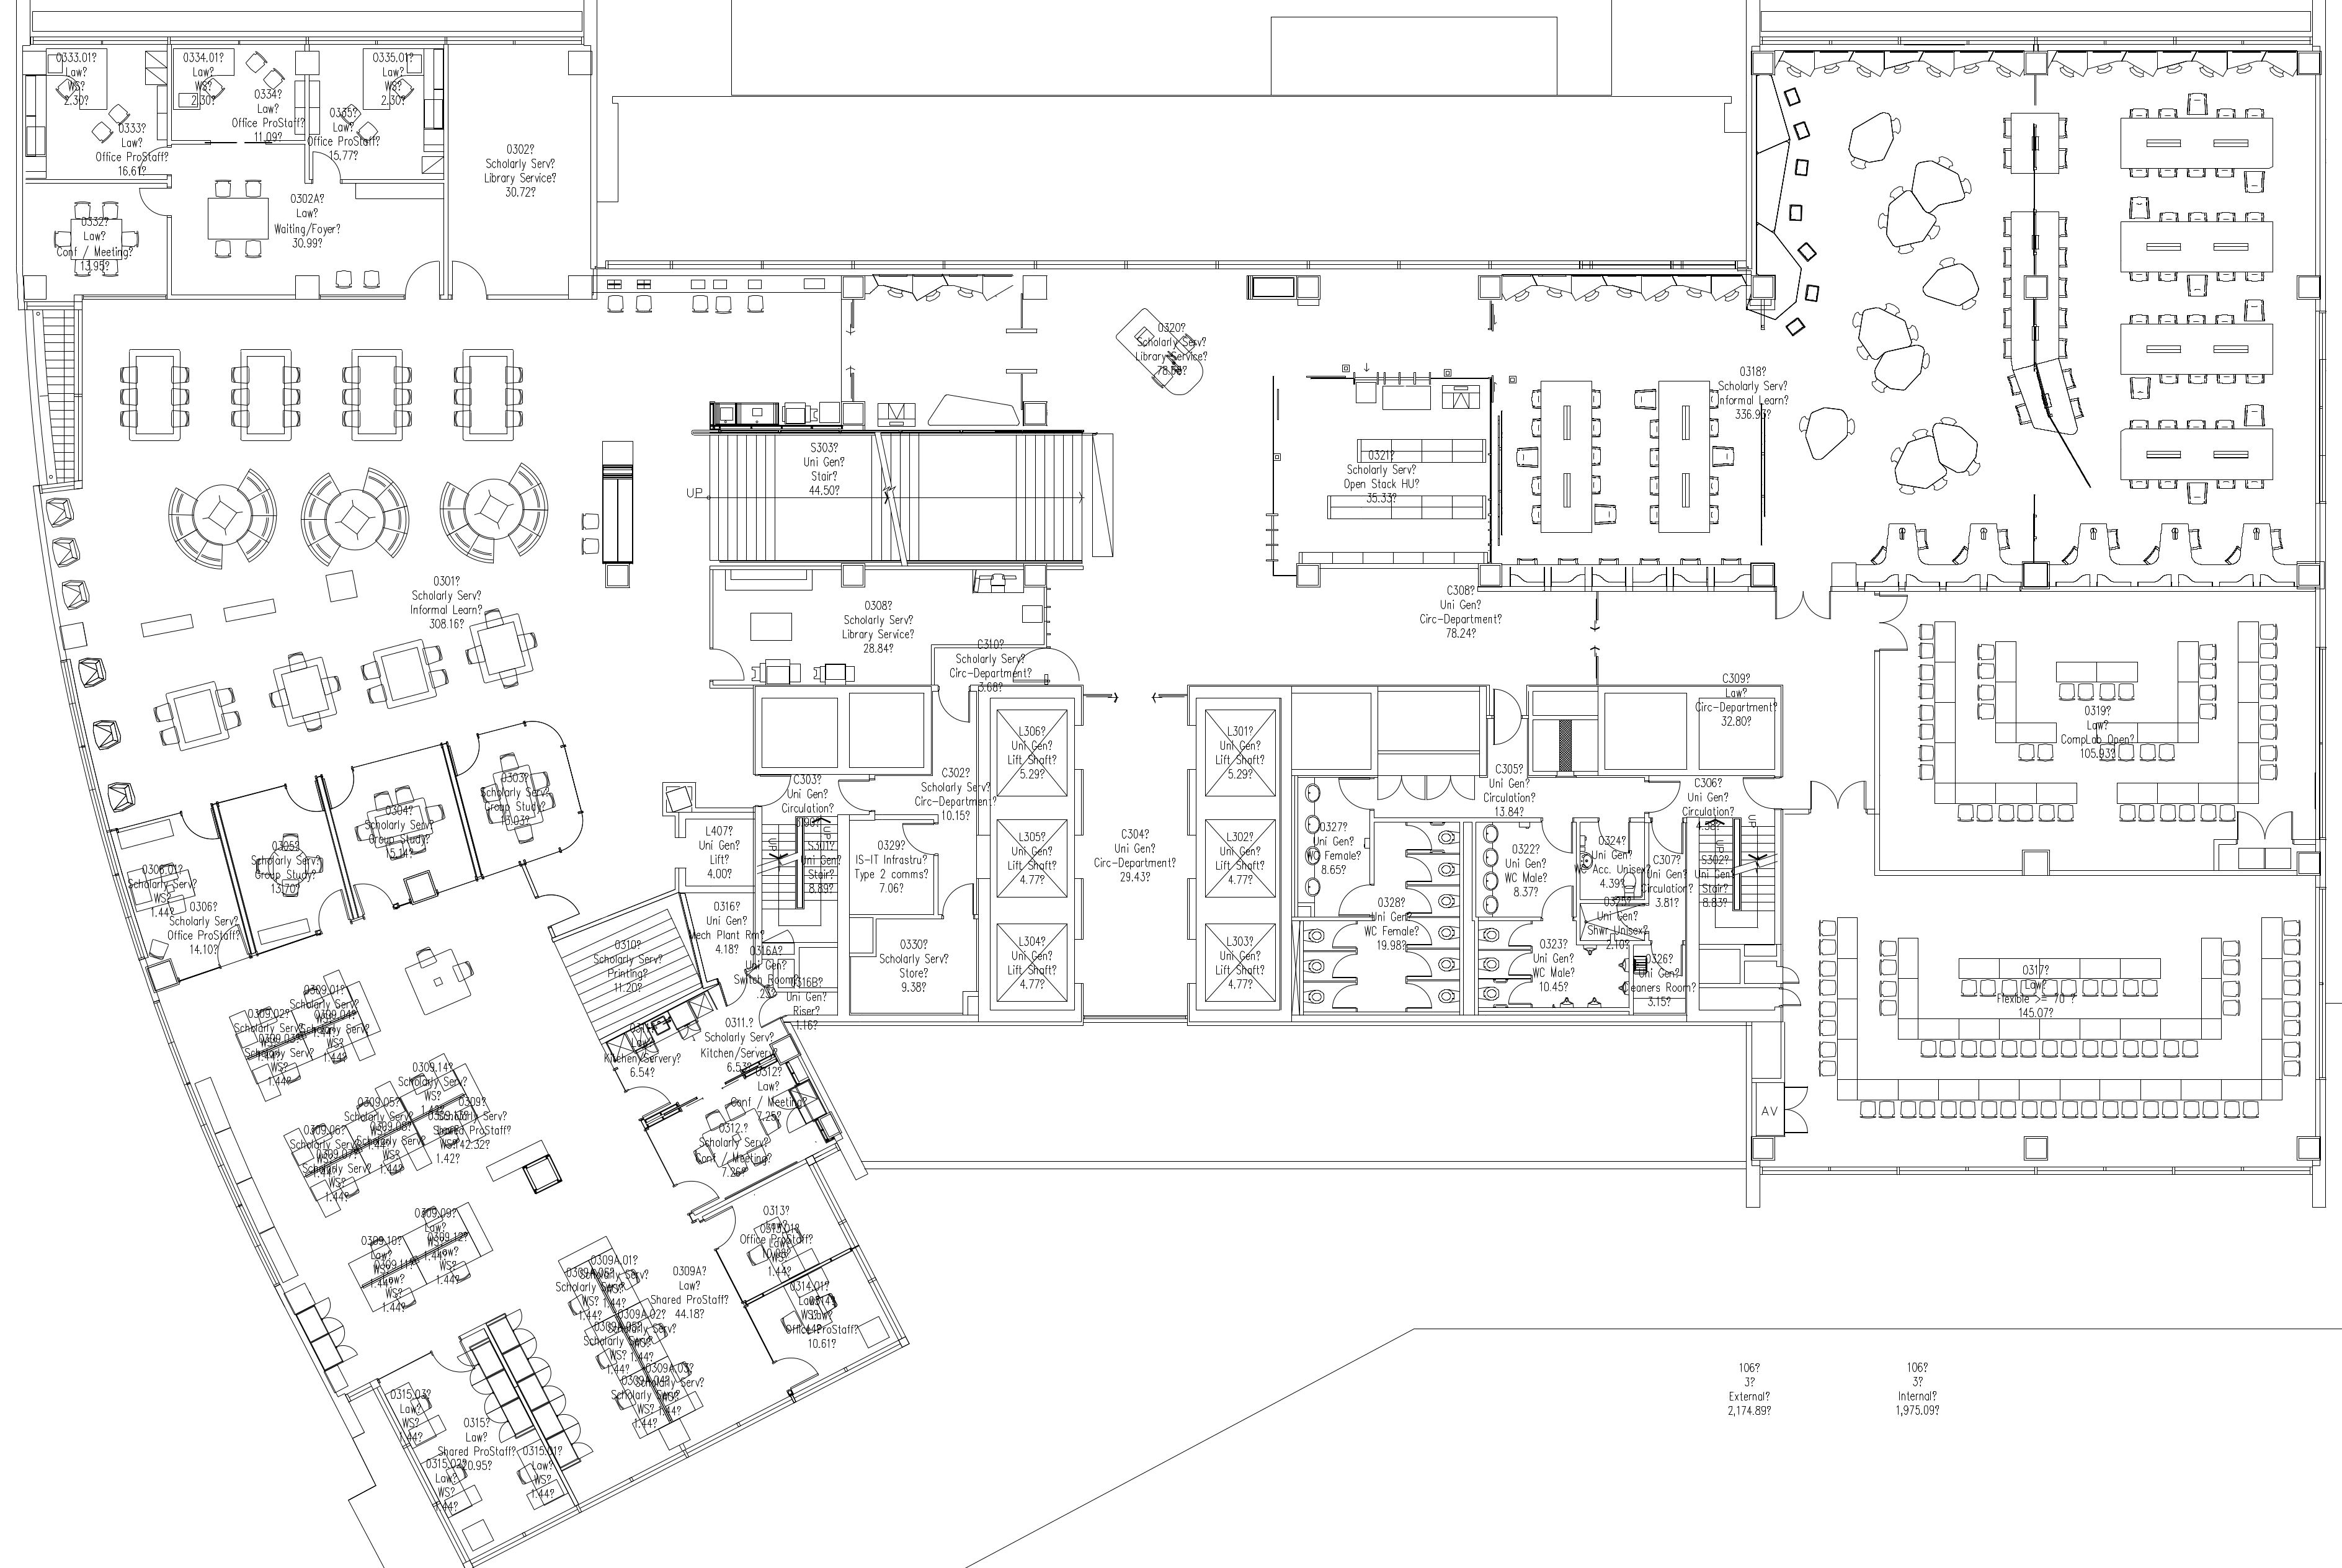door: (1878, 591, 1913, 654), (1774, 591, 1831, 628), (624, 1078, 675, 1118), (1809, 775, 1866, 810), (2237, 807, 2295, 842), (1784, 1081, 1821, 1136), (1492, 681, 1520, 751), (1373, 775, 1425, 808), (540, 884, 582, 924), (311, 886, 350, 929), (701, 1206, 740, 1249), (320, 767, 357, 810), (1425, 775, 1476, 807), (675, 1174, 721, 1209), (773, 1351, 819, 1386), (450, 255, 490, 294), (353, 873, 394, 912), (446, 737, 483, 779), (402, 255, 441, 294), (712, 644, 747, 682), (180, 812, 220, 845), (283, 780, 324, 814), (1539, 884, 1574, 920), (1649, 779, 1684, 814), (1541, 819, 1576, 854), (1336, 777, 1371, 812), (1333, 880, 1368, 915), (897, 821, 932, 854), (1649, 819, 1683, 854), (1739, 777, 1772, 812), (834, 779, 868, 812), (937, 693, 972, 724), (941, 882, 974, 914), (135, 143, 166, 175), (761, 775, 792, 807), (136, 187, 166, 219), (311, 147, 341, 178), (1401, 822, 1432, 852), (1399, 980, 1431, 1010), (1328, 920, 1359, 950), (1401, 854, 1432, 882), (1403, 886, 1434, 914), (1401, 917, 1432, 945), (1401, 948, 1432, 976), (1329, 982, 1361, 1010), (1329, 950, 1361, 978), (752, 997, 780, 1027), (1781, 961, 1805, 987), (1781, 984, 1805, 1010), (1508, 922, 1532, 947), (1508, 952, 1530, 976), (1508, 980, 1530, 1004)
